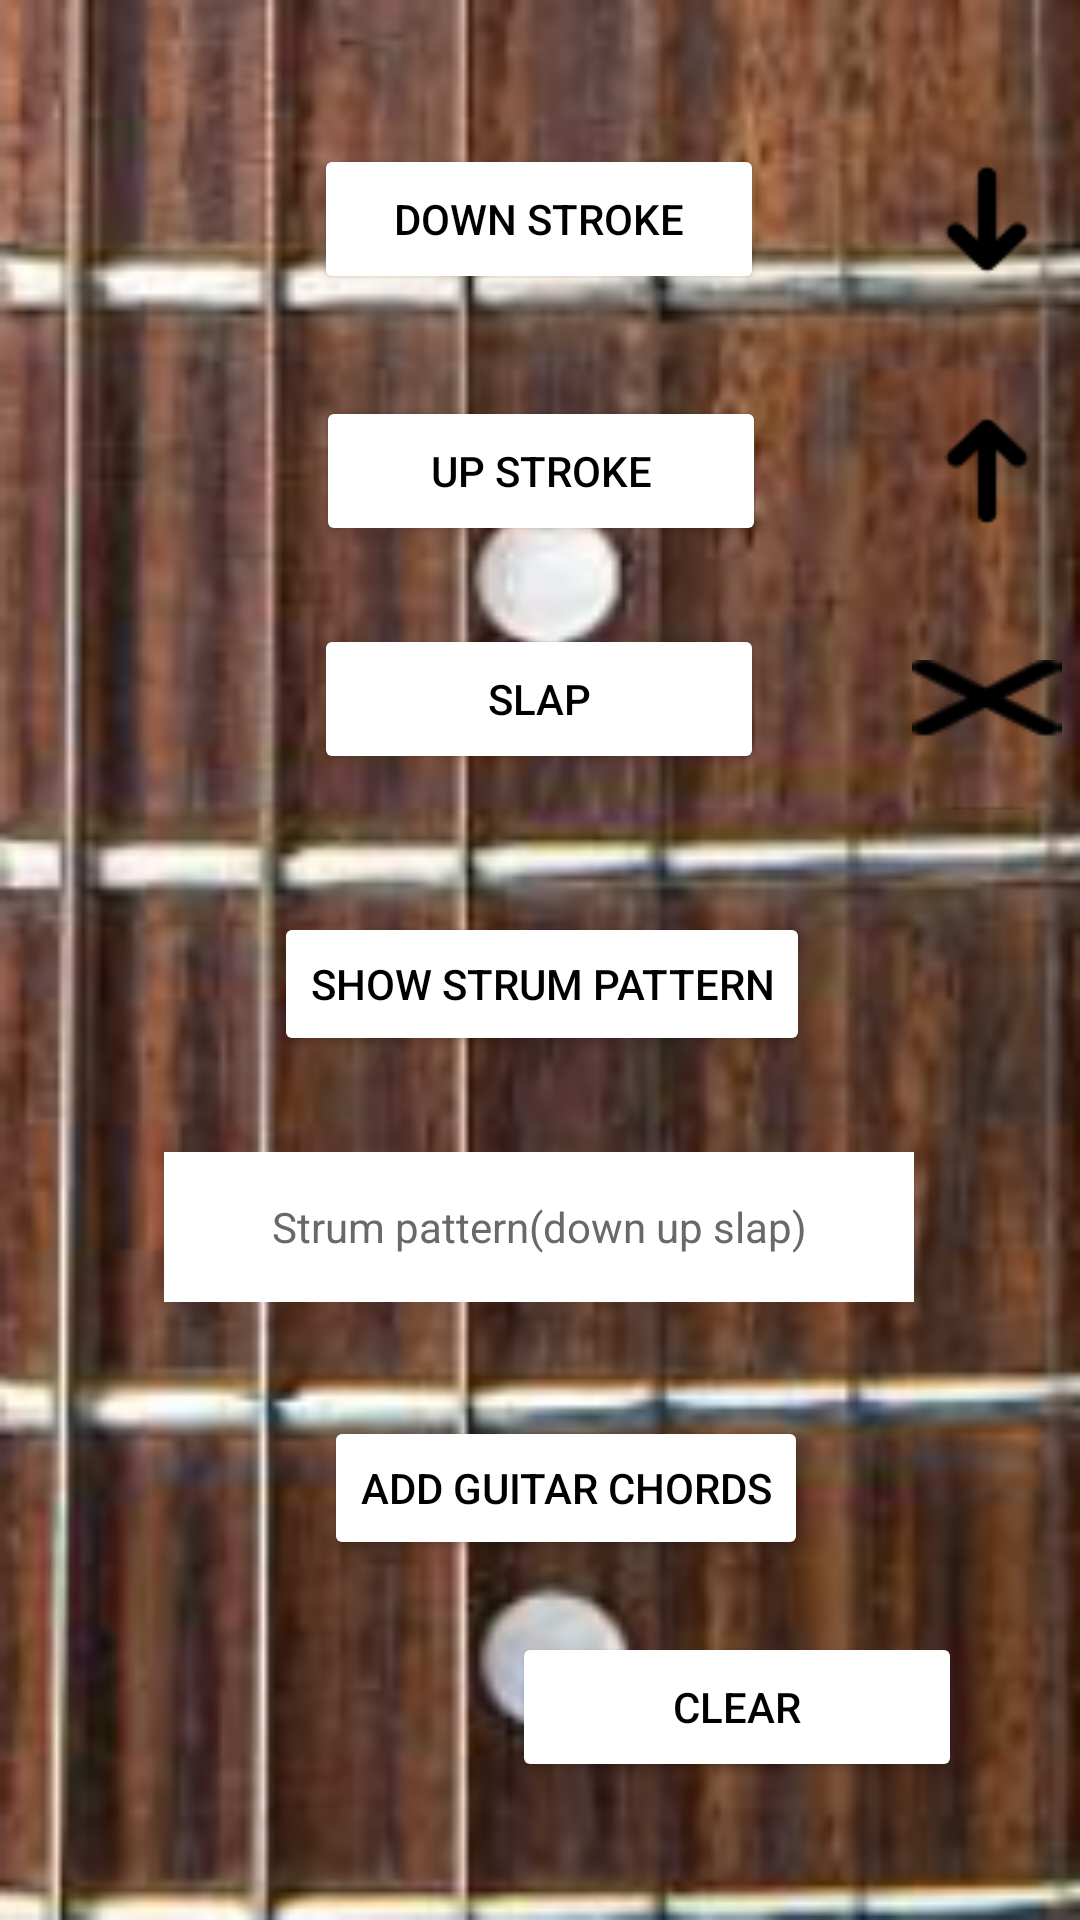

Point at icon controls on the screen. Image size 1080×1920, points as [x,y].
cross: [987,735]
downarrow: [987,219]
uparrow: [987,471]
